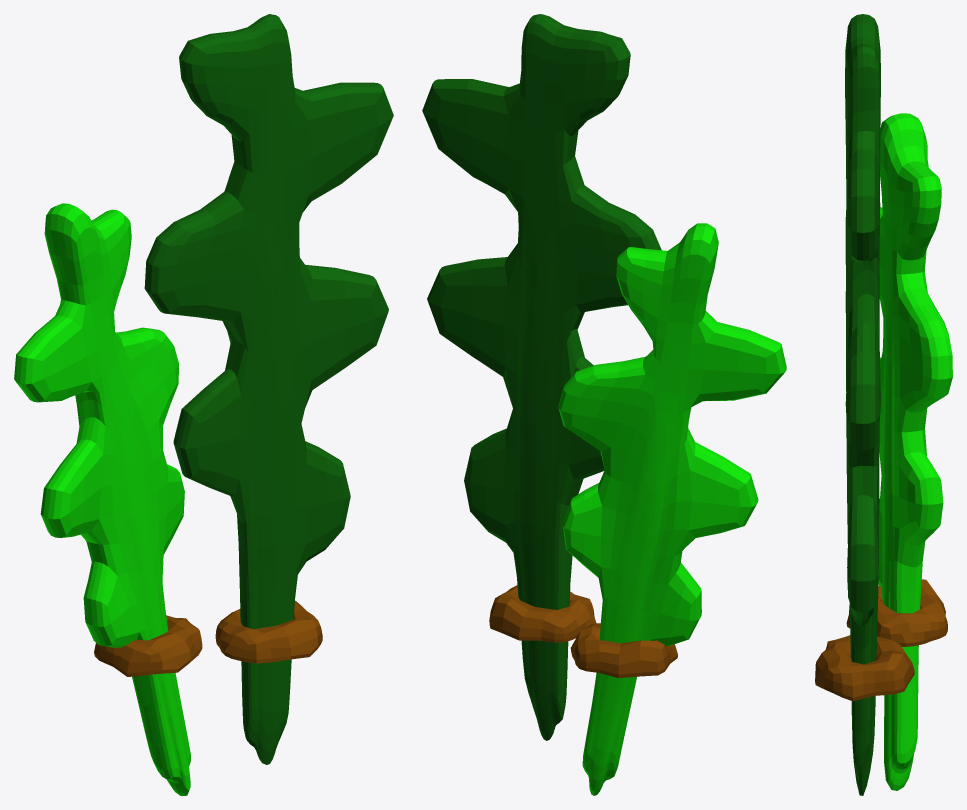
The model's file is FishBone_M.fbx.
3 renders of one model, left to right at view 1: azimuth 30°, elevation 25°; view 2: azimuth 150°, elevation 25°; view 3: azimuth 270°, elevation 25°, orthographic. The views are drawn at different scales.
Parts seen in each view (by area): view 1: Cube; view 2: Cube; view 3: Cube.
Boxes of the visible parts, bbox=[...] form: Cube: bbox=[14, 14, 393, 795]; Cube: bbox=[422, 14, 786, 795]; Cube: bbox=[815, 14, 952, 795].
Bounding box in the file's own units: 39.03 × 77.35 × 12.4.
